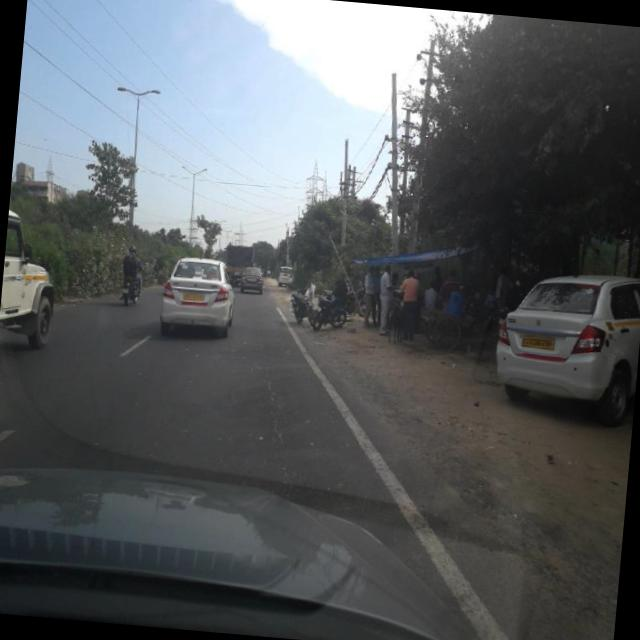pothole: (241, 318, 322, 495)
